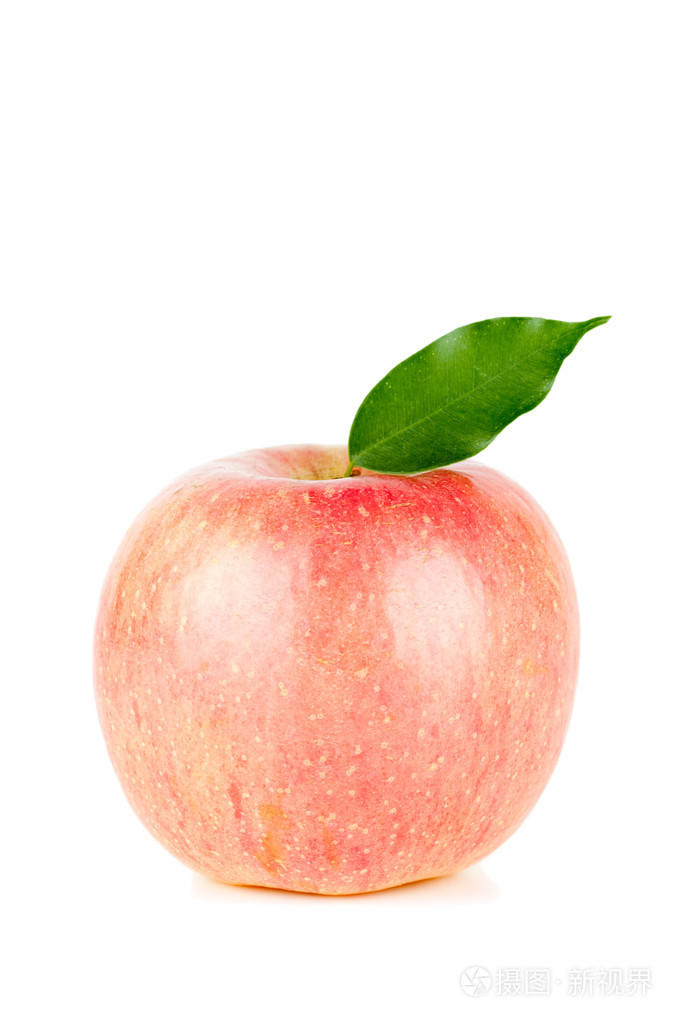apple: (95, 447, 580, 899)
